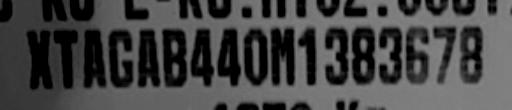letter: (22, 27, 54, 89), (80, 25, 110, 89), (320, 26, 350, 86), (50, 27, 80, 87), (160, 28, 190, 86), (108, 26, 136, 88), (188, 27, 216, 89), (134, 27, 162, 89), (402, 24, 430, 84), (268, 26, 296, 86), (348, 26, 376, 86), (376, 26, 404, 86), (458, 26, 486, 86), (241, 28, 269, 86), (295, 26, 321, 88), (216, 27, 242, 87), (431, 26, 457, 82)
